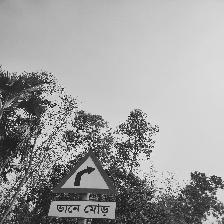Right-turn: (48, 151, 117, 221)
